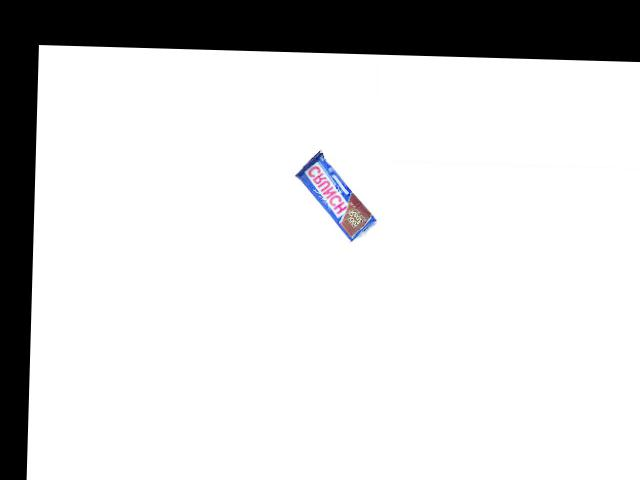chocolate: (292, 148, 380, 244)
